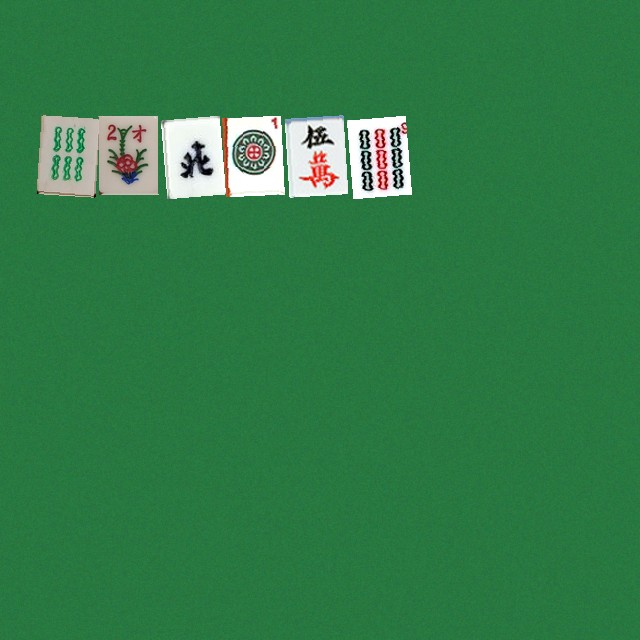tile: (36, 115, 95, 194), (98, 115, 157, 194), (160, 115, 219, 194), (222, 115, 281, 194), (284, 115, 343, 194), (346, 115, 405, 194)
